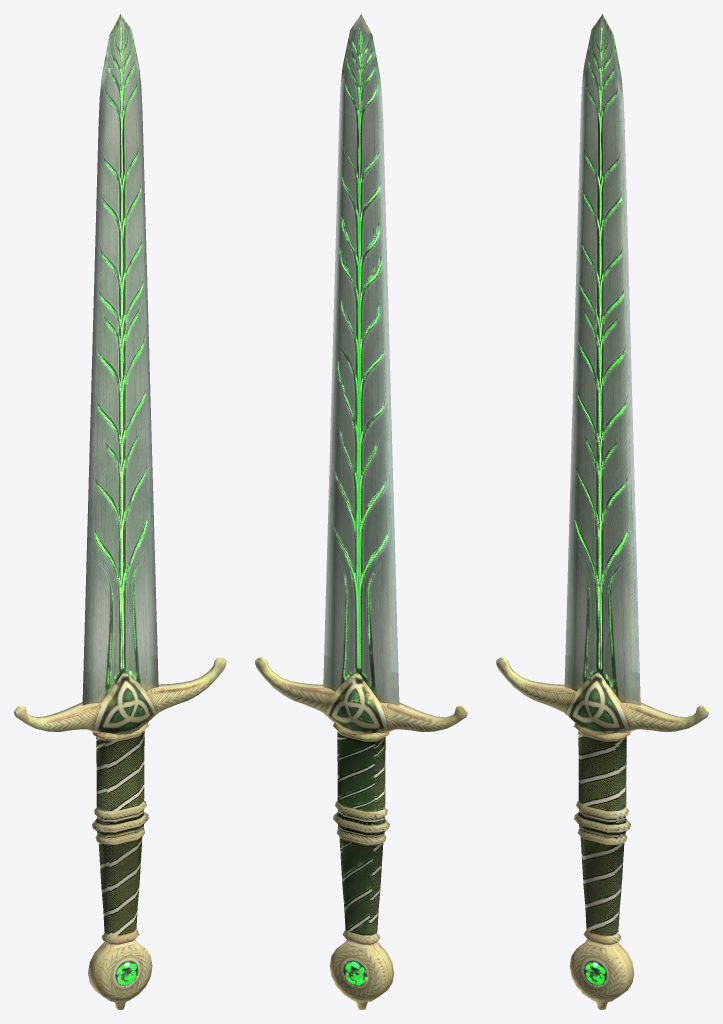
The model's file is w_shortsword_t4.glb.
The picture shows the model from 3 angles, left to right: view 1: azimuth 30°, elevation 25°; view 2: azimuth 150°, elevation 25°; view 3: azimuth 330°, elevation 25°; orthographic projection.
Parts seen in each view (by area): view 1: shortsword:0; view 2: shortsword:0; view 3: shortsword:0.
Part boxes in pixels (box(x1,y1,x2,y2)): shortsword:0: box(14, 14, 226, 1009); shortsword:0: box(255, 14, 467, 1009); shortsword:0: box(496, 14, 708, 1009).
Bounding box in the file's own units: 11.75 × 52.52 × 1.94.
1 material, 1 textured.
